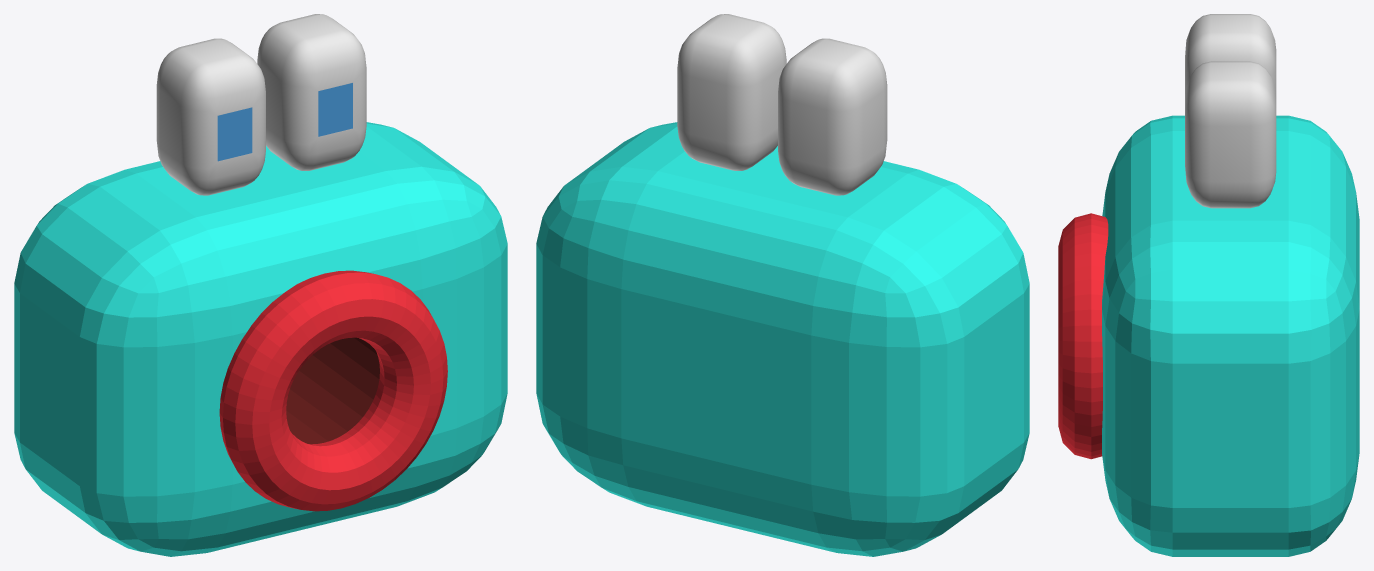
The model's file is face-mocap.glb.
3 renders of one model, left to right at view 1: azimuth 30°, elevation 25°; view 2: azimuth 150°, elevation 25°; view 3: azimuth 270°, elevation 25°, orthographic. The views are drawn at different scales.
Parts seen in each view (by area): view 1: body, lips, eye_right, eye_left; view 2: body, eye_right, eye_left; view 3: body, eye_left, lips, eye_right.
Part boxes in pixels (<box>): body: <box>14,122,507,556</box>; lips: <box>219,270,447,511</box>; eye_right: <box>156,38,265,195</box>; eye_left: <box>257,14,366,170</box>; body: <box>536,122,1029,556</box>; eye_right: <box>778,38,887,195</box>; eye_left: <box>677,14,786,170</box>; body: <box>1102,115,1359,556</box>; eye_left: <box>1185,61,1276,208</box>; lips: <box>1058,213,1108,459</box>; eye_right: <box>1185,14,1276,101</box>.
Size of the model in its own units: 1.14 by 1.2 by 0.7289.
